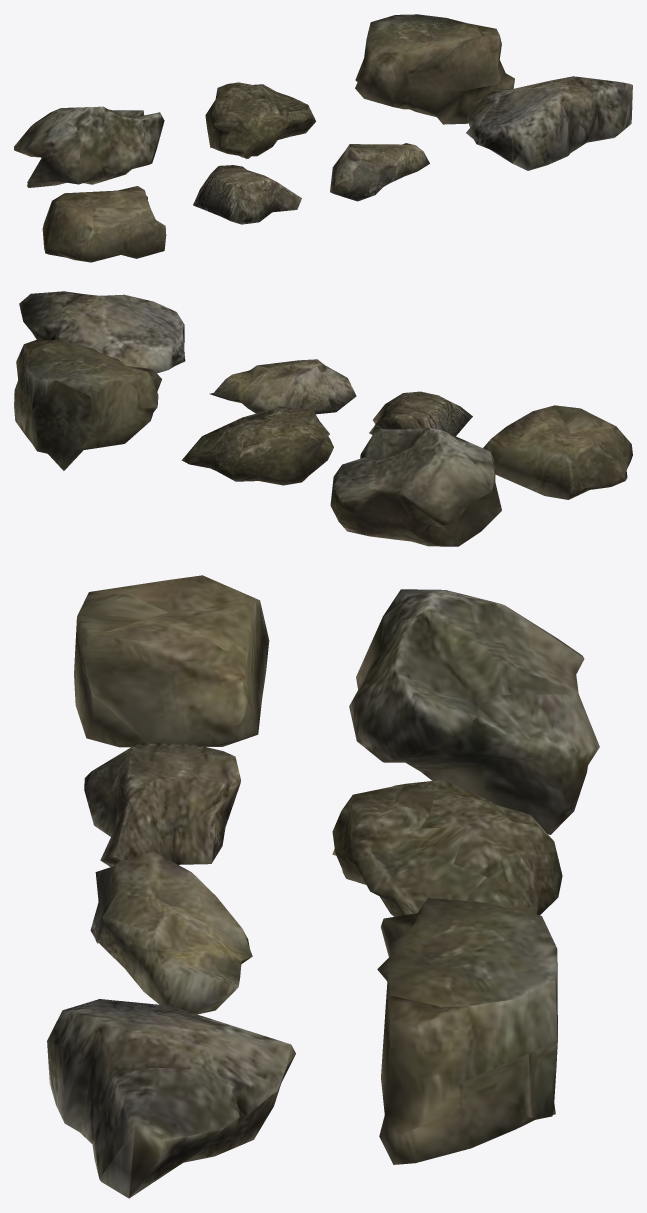
3 views of the same model, one above another, from view 1: azimuth 30°, elevation 25°; view 2: azimuth 150°, elevation 25°; view 3: azimuth 270°, elevation 25° (orthographic). The views are drawn at different scales.
Visible parts, largest first — view 1: rock_moss_set_02_rock08; view 2: rock_moss_set_02_rock08; view 3: rock_moss_set_02_rock08.
Part boxes in pixels (<box>): rock_moss_set_02_rock08: <box>14,14,632,262</box>; rock_moss_set_02_rock08: <box>14,291,632,546</box>; rock_moss_set_02_rock08: <box>47,575,599,1198</box>.
Size of the model in its own units: 8.27 by 1.37 by 3.4.
Materials: 1 (1 with a texture image).
